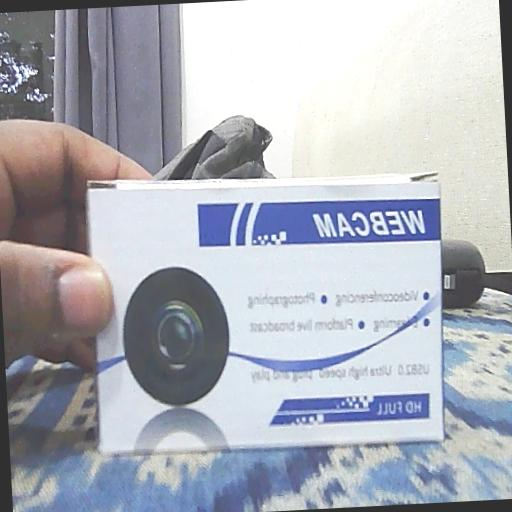webcam_box: (84, 163, 454, 460)
